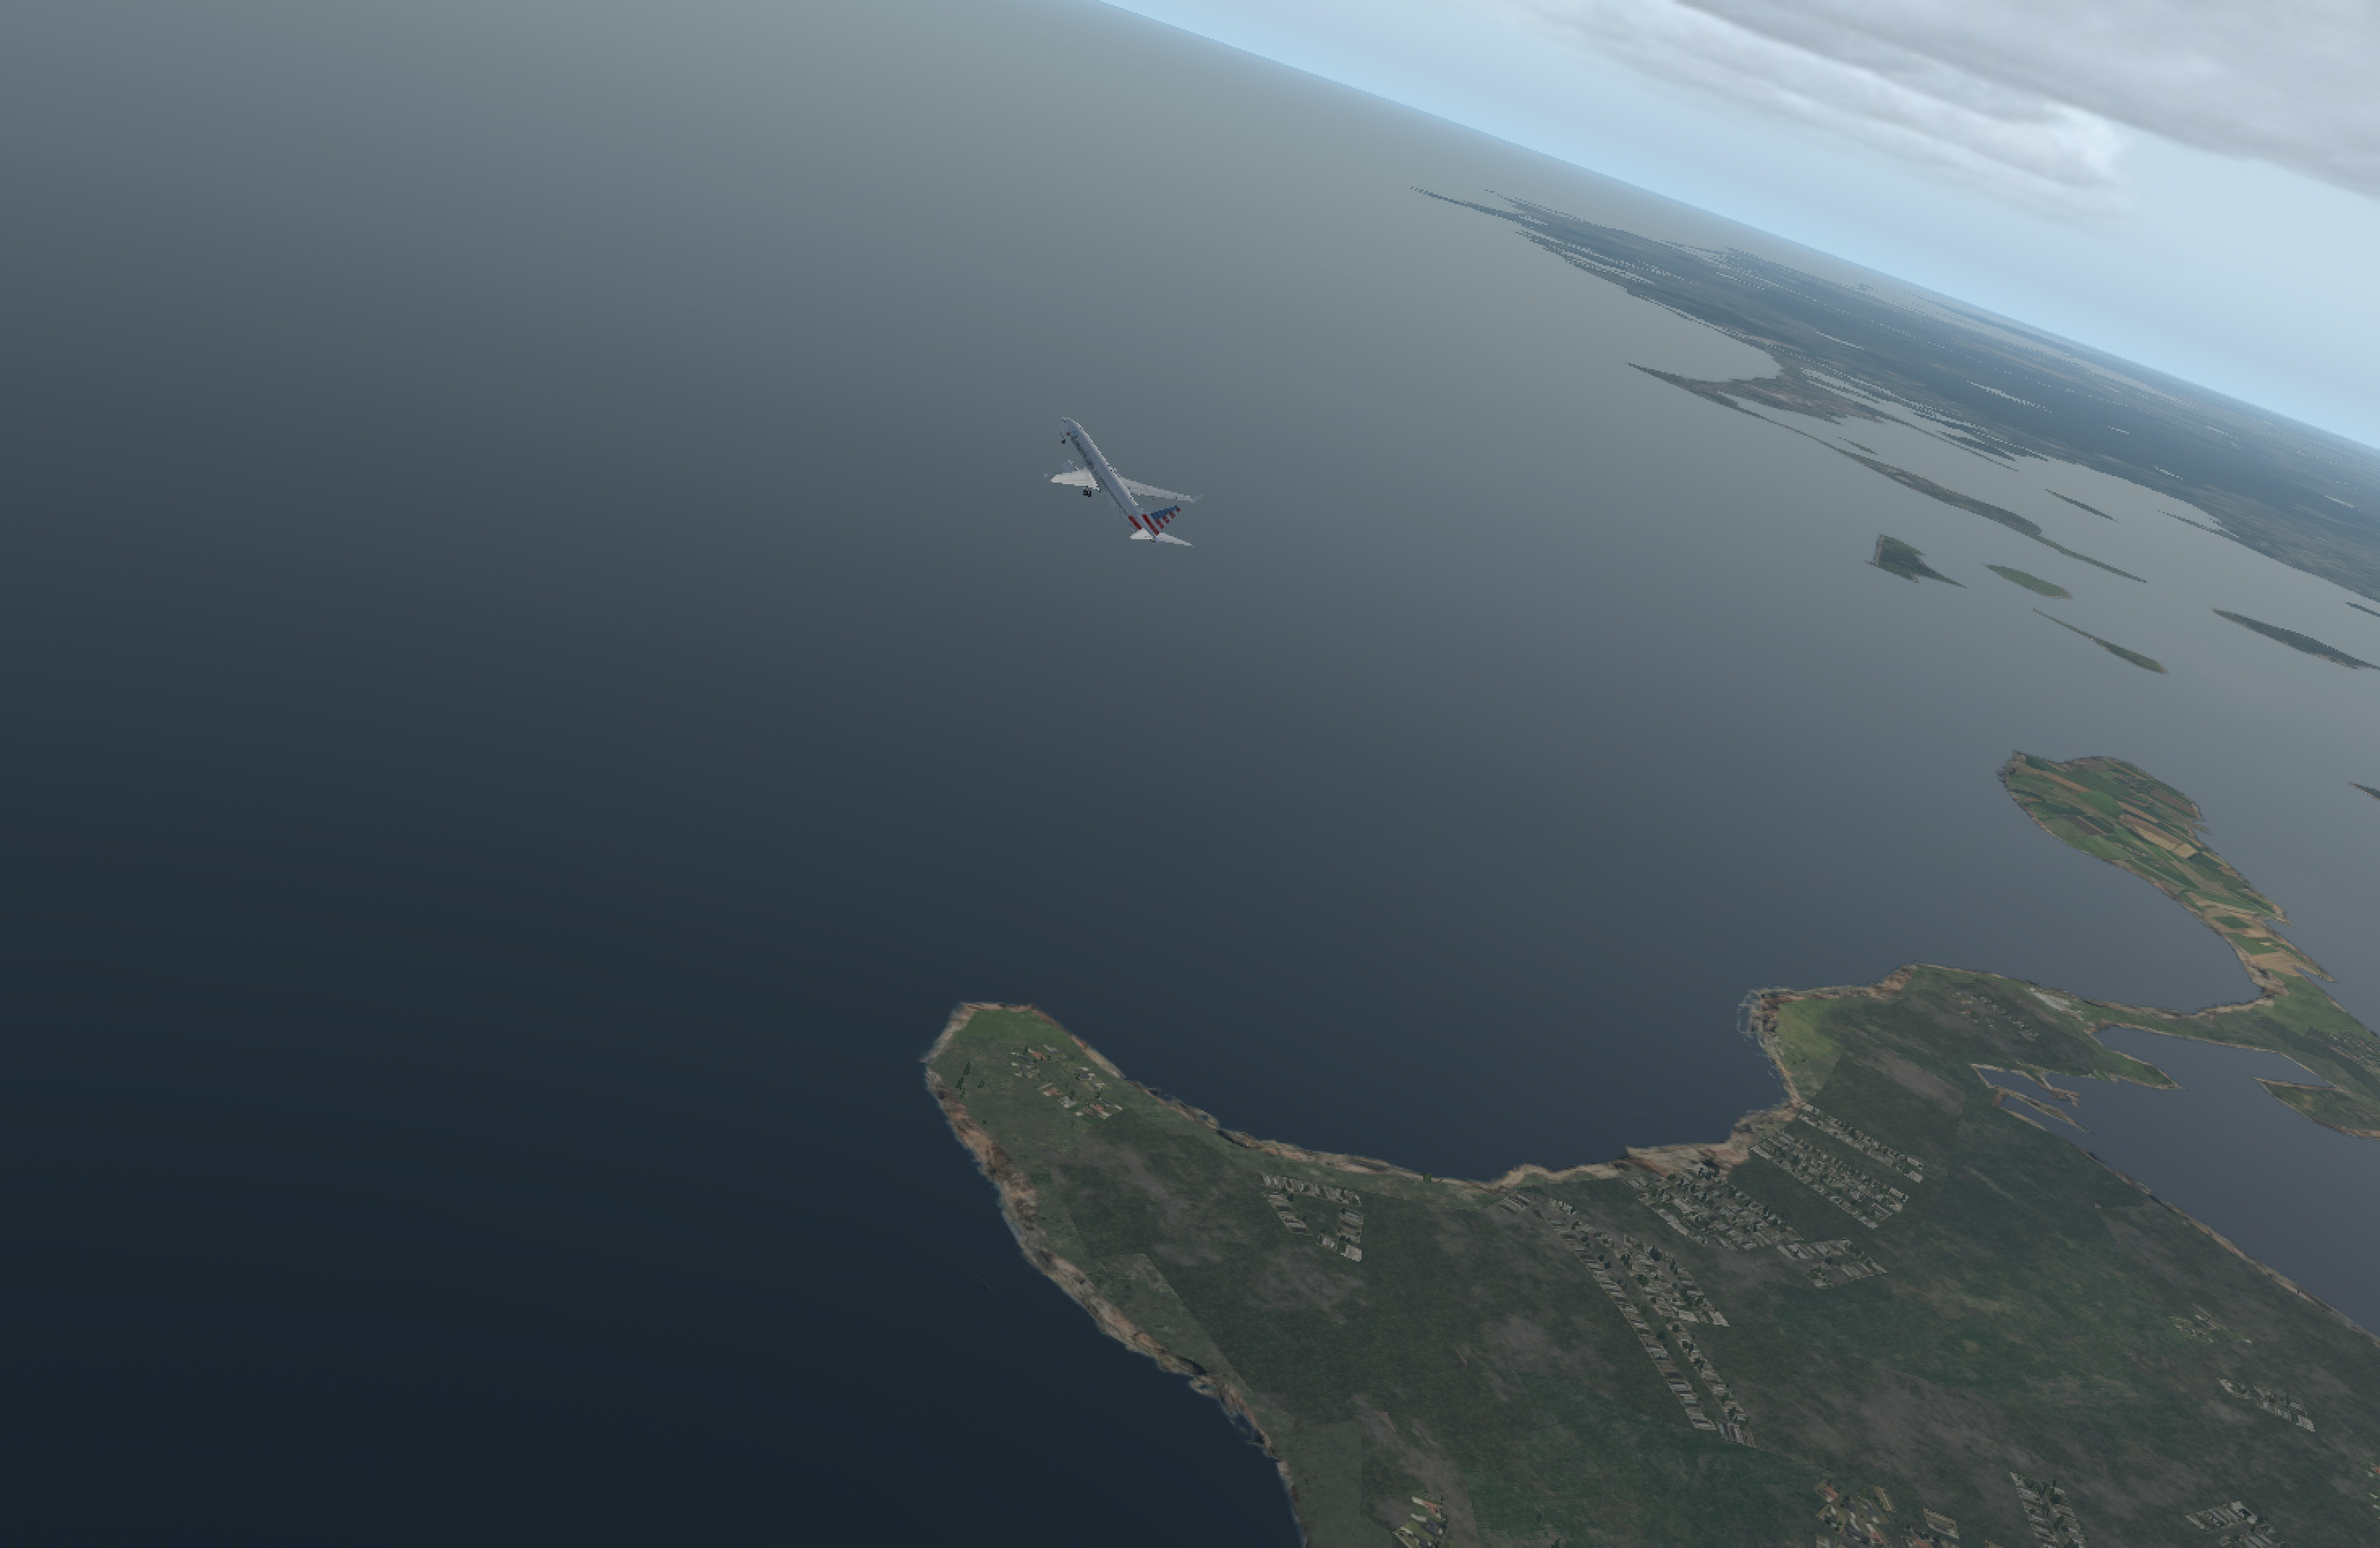aircraft: (996, 439, 1209, 519)
